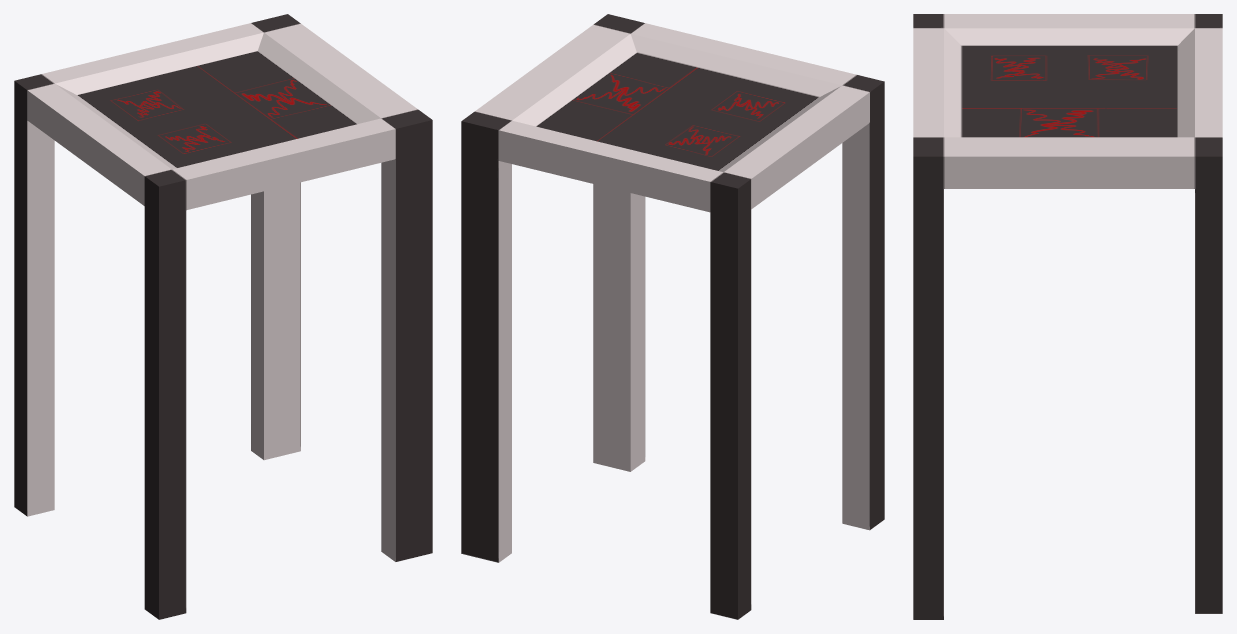
The model's file is F_check_table.fbx.
The picture shows the model from 3 angles, left to right: view 1: azimuth 30°, elevation 25°; view 2: azimuth 150°, elevation 25°; view 3: azimuth 270°, elevation 25°; orthographic projection. The views are drawn at different scales.
Parts seen in each view (by area): view 1: Check_board_Table; view 2: Check_board_Table; view 3: Check_board_Table.
Part boxes in pixels (x1,y1,x2,y2): Check_board_Table: [14, 14, 432, 619]; Check_board_Table: [461, 14, 884, 619]; Check_board_Table: [913, 14, 1222, 619].
Bounding box in the file's own units: 112 × 170 × 103.
